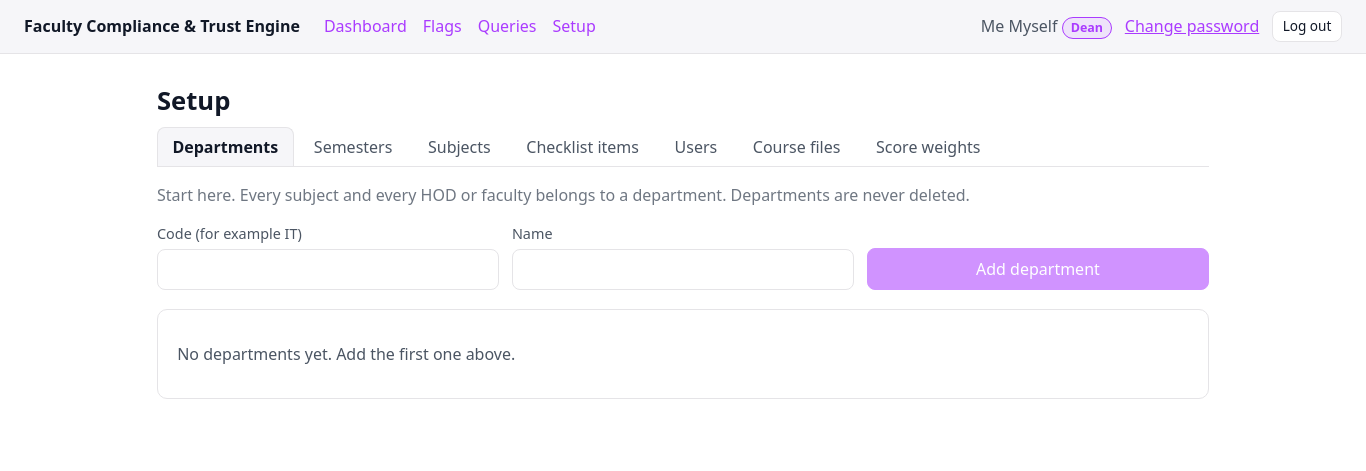
Test: departments › creates one and shows the server message when it already exists
Expected: the text "No departments yet. Add the first one above." is shown, [177,343,515,365]
Type " it " into the field labelled "Code (for example IT)".
click(328, 269); type(" it ")  # box [157,249,499,290]
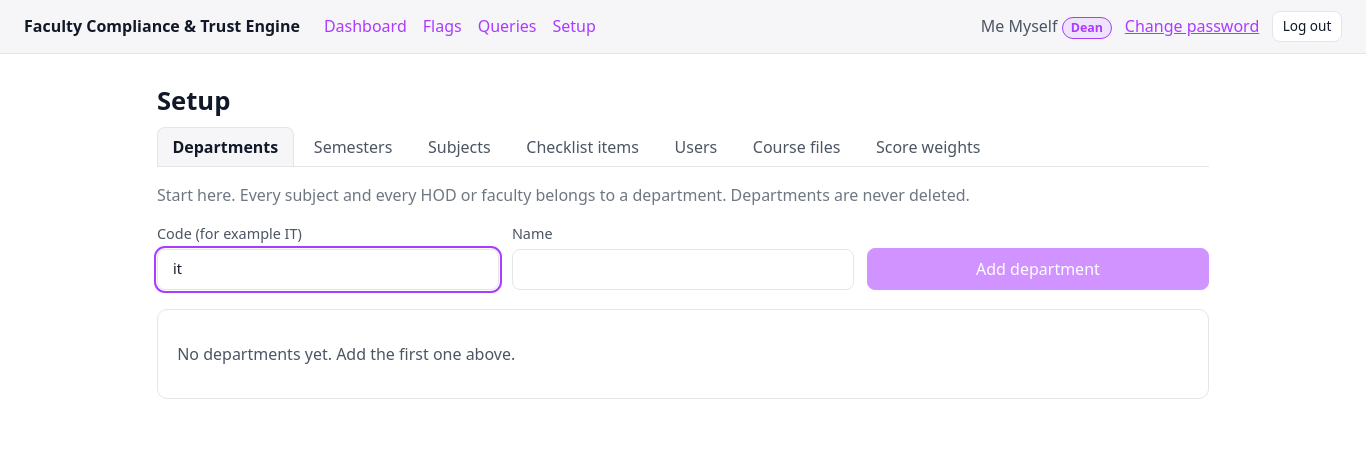
Type "Information Technology" into the field labelled "Name".
click(683, 269); type("Information Technology")  # box [512,249,854,290]
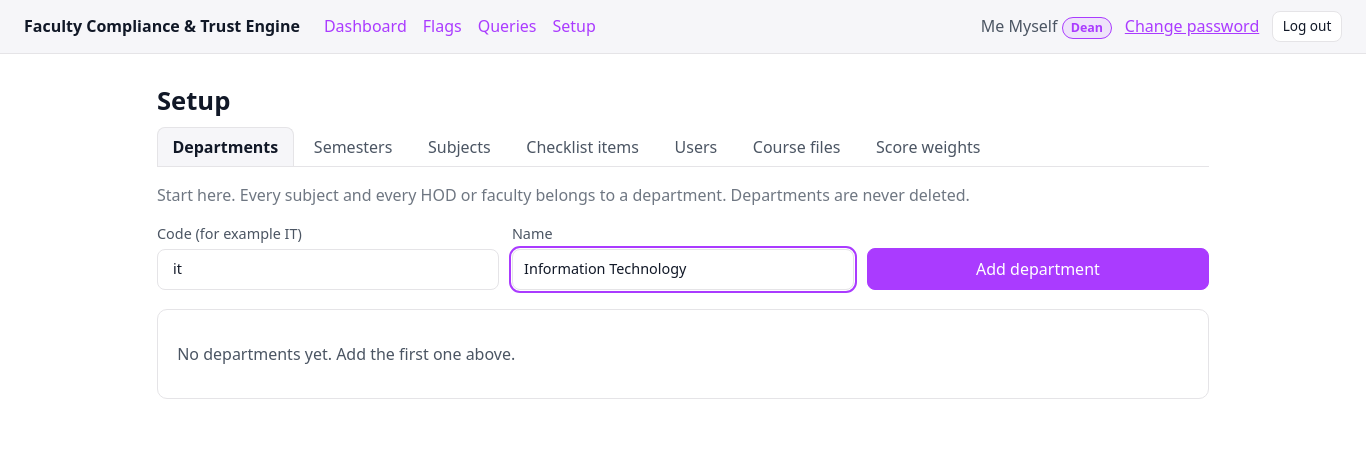
Click the button "Add department".
click(1038, 269)  # box [867,248,1209,290]
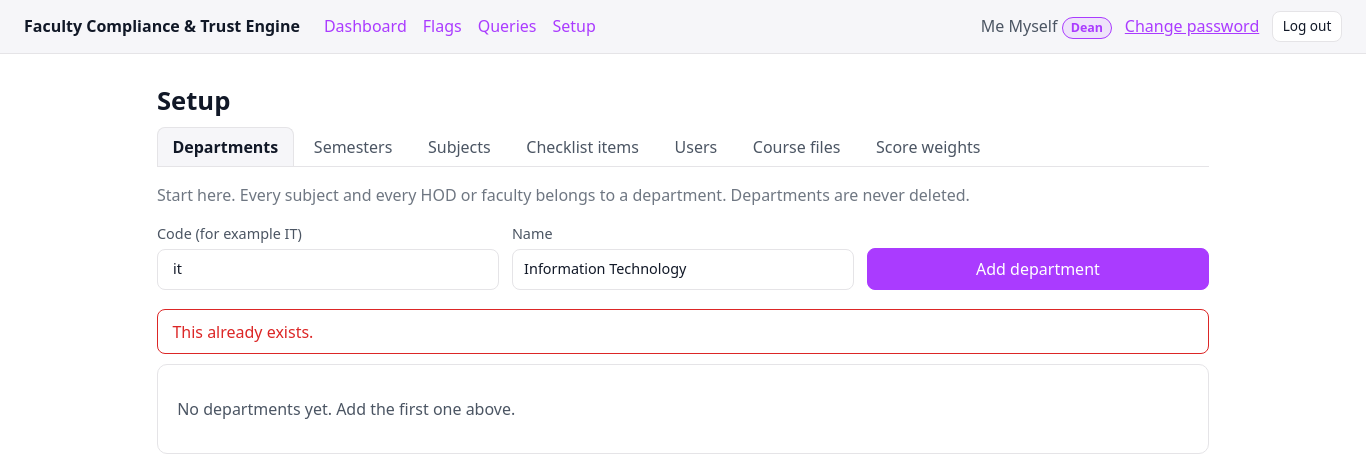
Expected: the message reads "This already exists.", [172,321,313,343]
